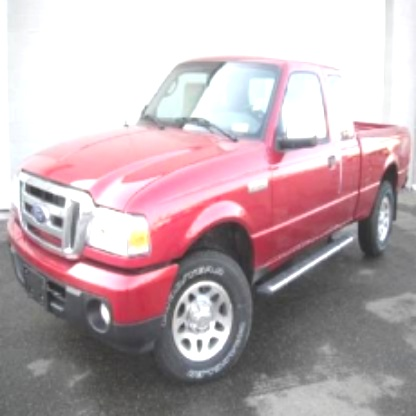Vehicle: (7, 58, 412, 380)
